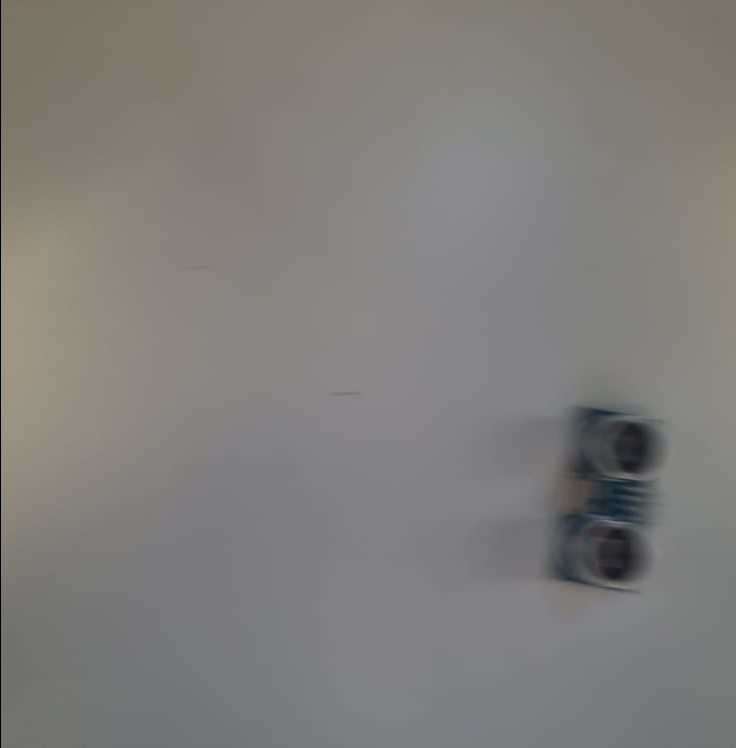SENSOR: (556, 404, 676, 597)
